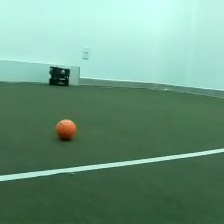ball: (52, 115, 78, 142)
goal: (1, 58, 81, 87)
robot: (47, 63, 71, 87)
